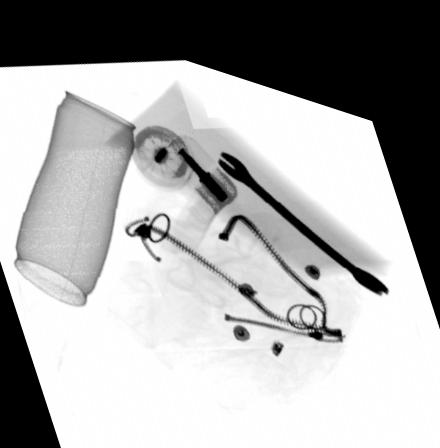Wrench: (213, 136, 391, 271)
